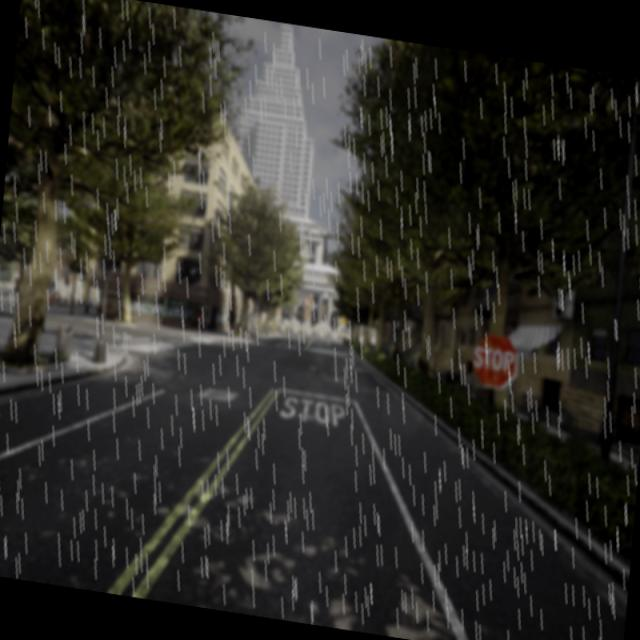stop sign: (470, 330, 520, 390)
